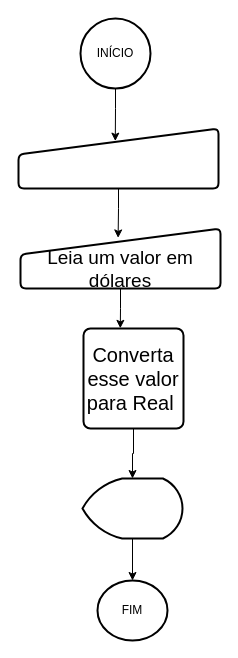
Image size: 238x658. Some labels were removed from this diagram. Each missing label, with the box of its shape:
Leia a cotação do dólar: (17, 127, 219, 189)
Resultado: (81, 477, 183, 539)
